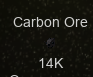Carbon: (12, 15, 88, 70)
